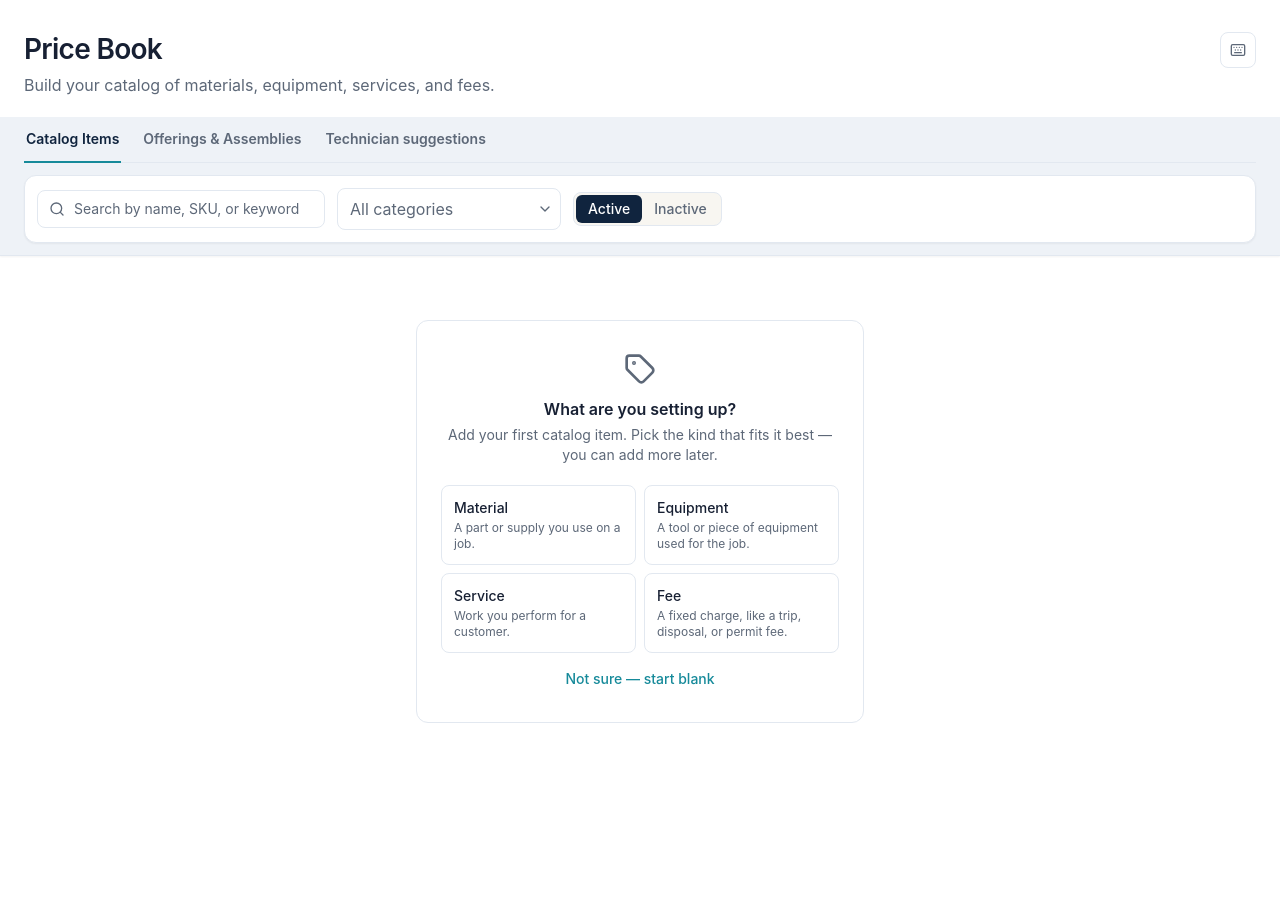
Scenario: PriceBook — Offerings & Assemblies tab › an inactivated assembly disappears from the default Active view but is reachable via the Inactive status filter
Click the tab "Offerings & Assemblies" at (222, 140), box left=141, top=117, right=303, bottom=163
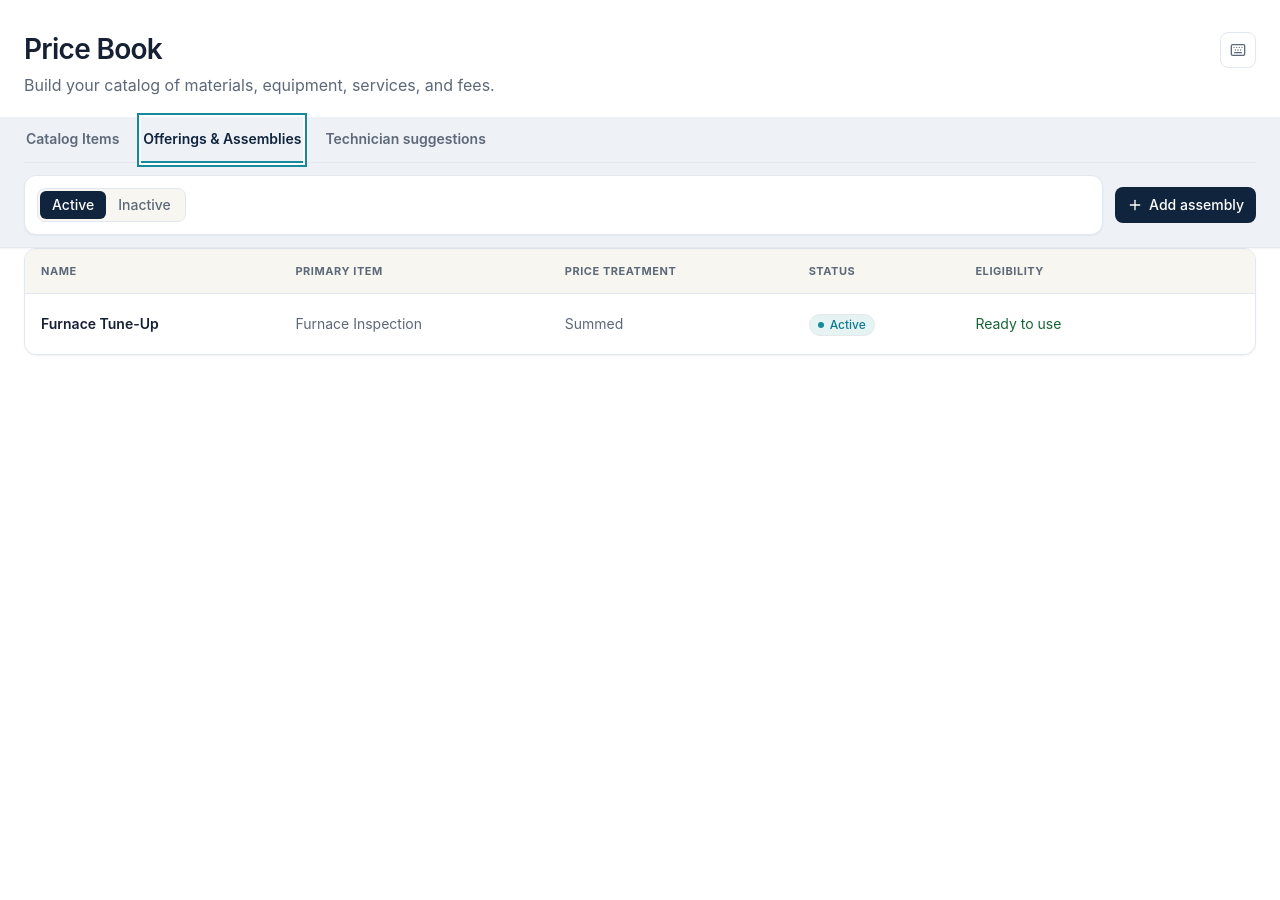
Expected: the text "Retired Bundle" is not shown
Expected: the button "Furnace Tune-Up" is shown, left=41, top=314, right=159, bottom=334
Click the button "Inactive" at (144, 205), box left=106, top=191, right=183, bottom=219
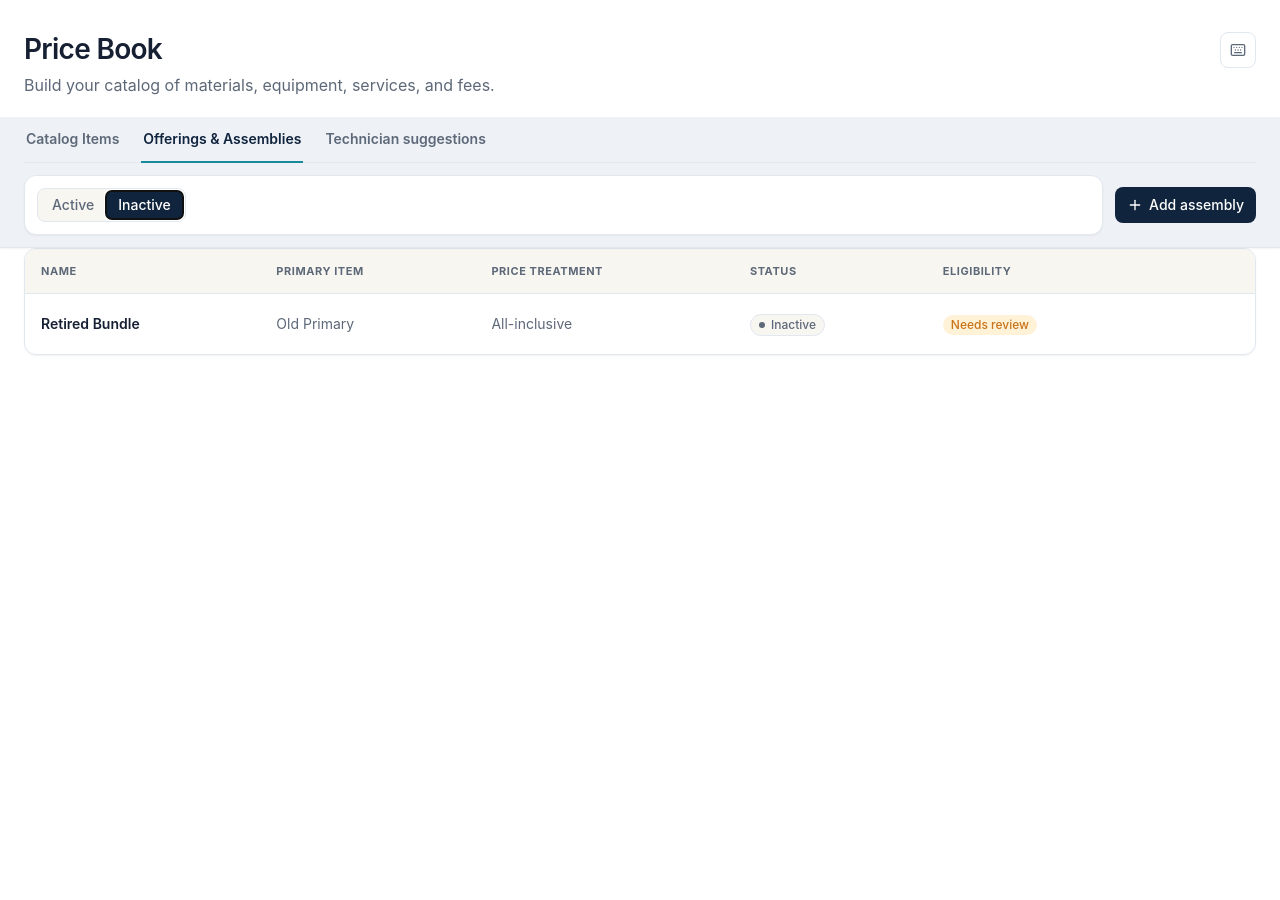
Expected: the button "Retired Bundle" is shown, left=41, top=314, right=140, bottom=334
Expected: the button "Furnace Tune-Up" is gone
